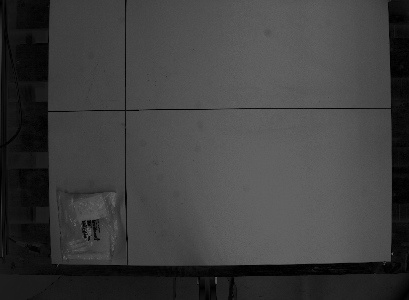t3: (55, 188, 128, 267)
